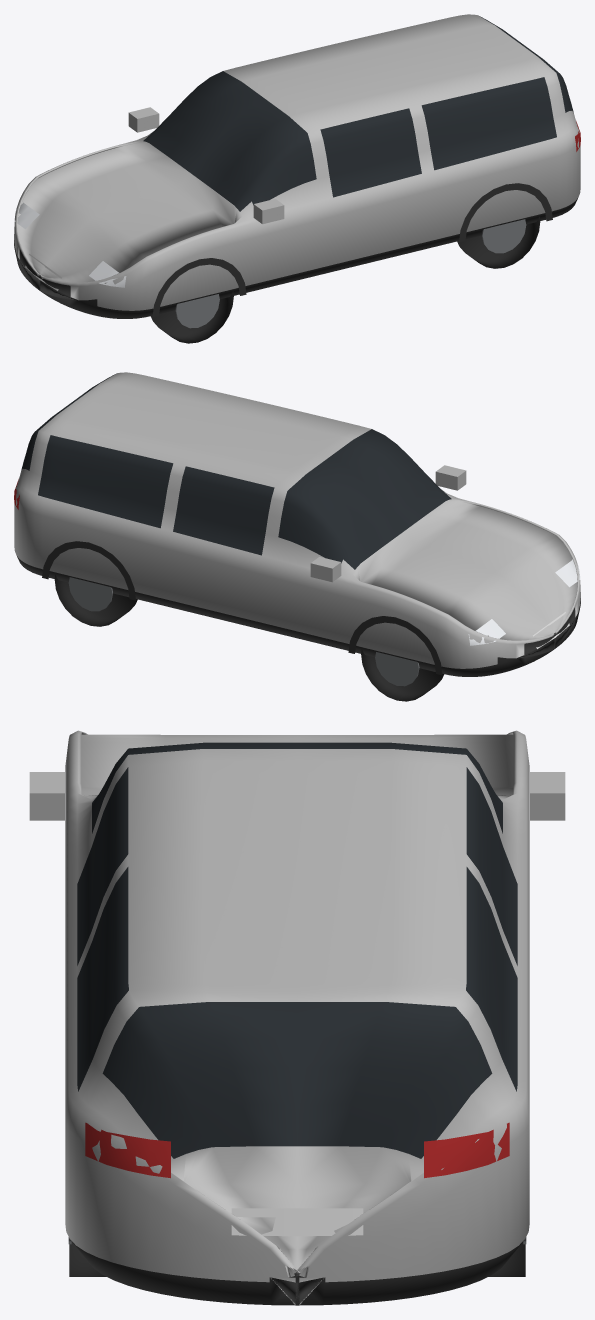
The model's file is auto_hd.glb.
3 renders of one model, top to bottom at view 1: azimuth 30°, elevation 25°; view 2: azimuth 150°, elevation 25°; view 3: azimuth 270°, elevation 25°, orthographic. The views are drawn at different scales.
Parts seen in each view (by area): view 1: auto, auto_renkaat, auto_vanteet, auto_kaaret, auto_peilit, auto_etuvalo-1; view 2: auto, auto_renkaat, auto_vanteet, auto_kaaret, auto_peilit, auto_etuvalo1; view 3: auto, auto_peilit, auto_takavalo1, auto_kilpi_t, auto_takavalo-1, auto_renkaat.
Boxes of the visible parts, x1,y1,x2,y2 form: auto: [14, 14, 580, 318]; auto_renkaat: [150, 216, 540, 343]; auto_vanteet: [175, 219, 526, 328]; auto_kaaret: [152, 183, 552, 317]; auto_peilit: [128, 107, 284, 224]; auto_etuvalo-1: [89, 261, 126, 287]; auto: [14, 372, 580, 676]; auto_renkaat: [54, 574, 444, 701]; auto_vanteet: [68, 577, 419, 686]; auto_kaaret: [42, 541, 442, 675]; auto_peilit: [310, 465, 466, 582]; auto_etuvalo1: [468, 619, 505, 645]; auto: [65, 730, 529, 1305]; auto_peilit: [29, 772, 565, 820]; auto_takavalo1: [424, 1122, 509, 1178]; auto_kilpi_t: [231, 1208, 363, 1236]; auto_takavalo-1: [85, 1122, 170, 1178]; auto_renkaat: [69, 1242, 525, 1276].
Bounding box in the file's own units: 4.71 × 1.5 × 2.12.
